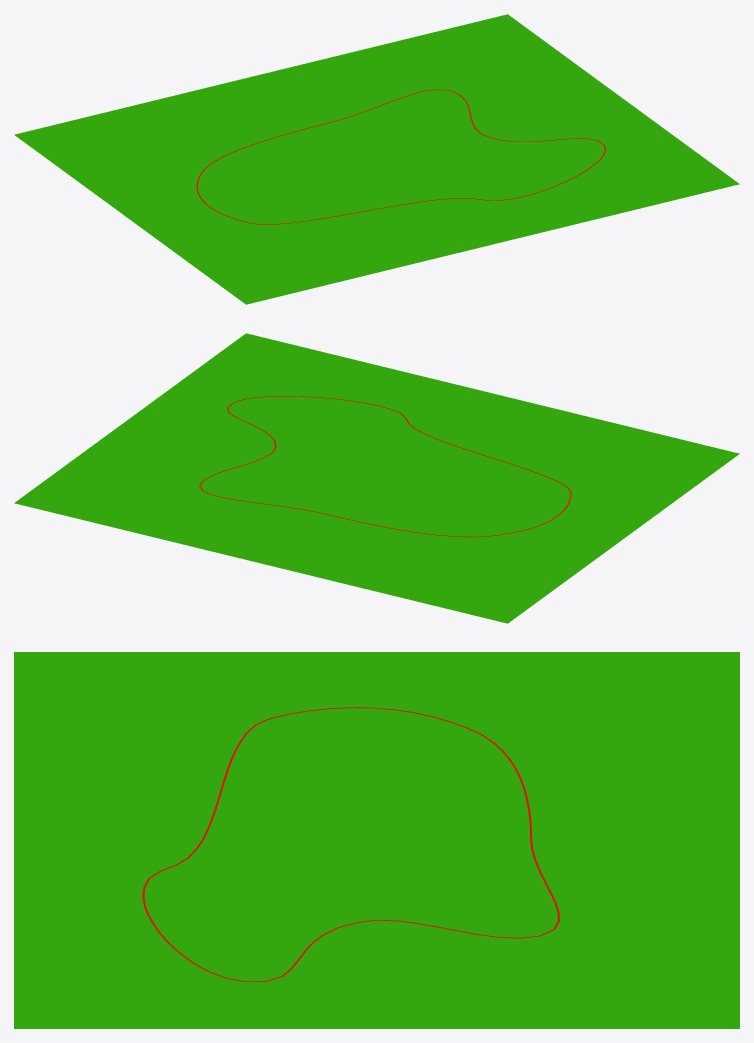
Rendered from red_line.dae.
3 renders of one model, top to bottom at view 1: azimuth 30°, elevation 25°; view 2: azimuth 150°, elevation 25°; view 3: azimuth 270°, elevation 25°, orthographic. The views are drawn at different scales.
Parts seen in each view (by area): view 1: Plane, Cube.001; view 2: Plane, Cube.001; view 3: Plane, Cube.001.
Boxes of the visible parts, left/top/right/bottom form: Plane: left=14, top=14, right=739, bottom=304; Cube.001: left=196, top=89, right=605, bottom=224; Plane: left=14, top=333, right=739, bottom=623; Cube.001: left=199, top=396, right=571, bottom=537; Plane: left=14, top=652, right=739, bottom=1028; Cube.001: left=142, top=707, right=559, bottom=981.
Bounding box in the file's own units: 8.97 × 7.31 × 0.2.
